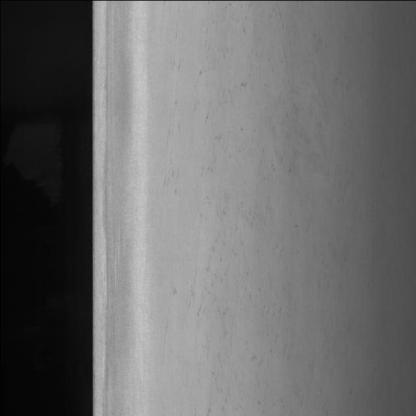silk_spot: (159, 31, 283, 302)
